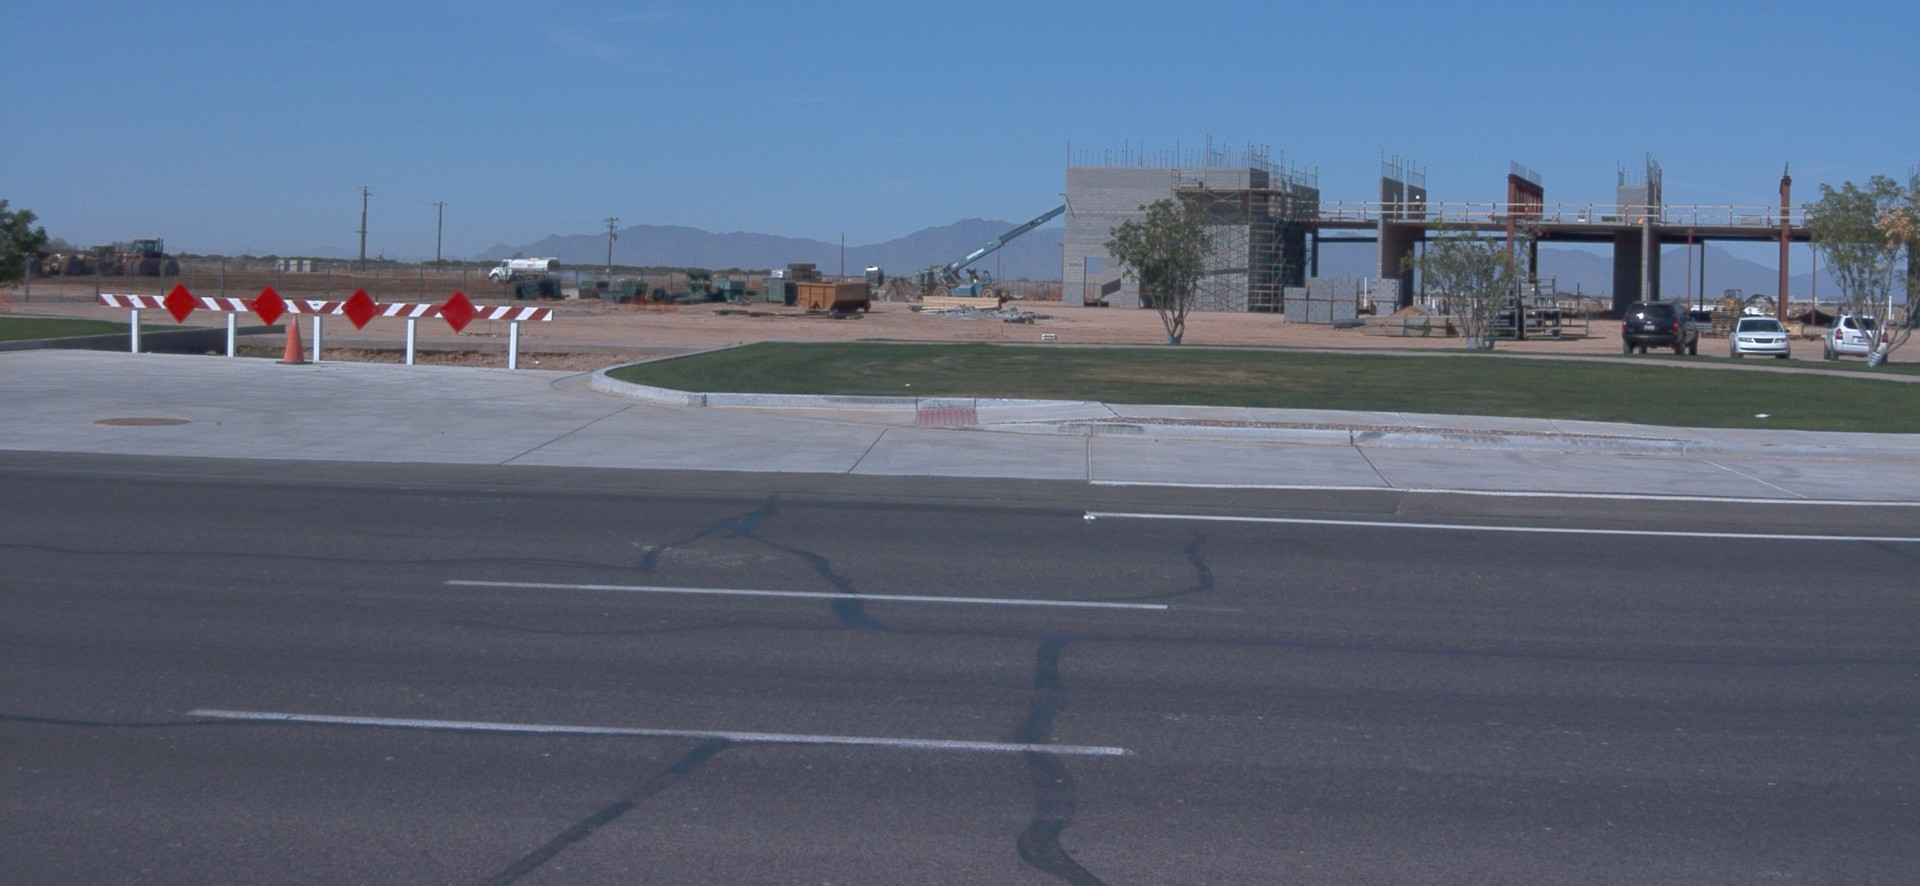TYPE_VEHICLE: (934, 196, 1069, 301), (1620, 299, 1698, 358), (1822, 316, 1888, 365), (1723, 317, 1788, 364), (0, 230, 55, 281), (116, 237, 180, 279), (487, 254, 561, 285), (1719, 292, 1775, 313)
